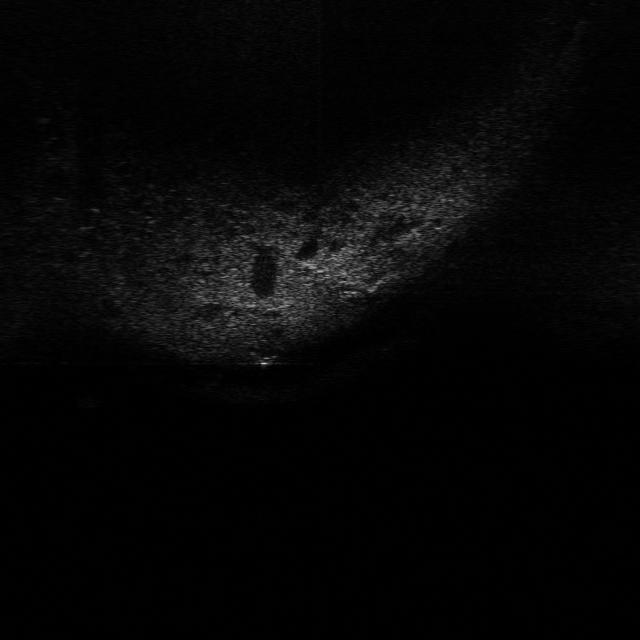ball: (243, 330, 287, 368)
cube: (66, 383, 112, 411)
